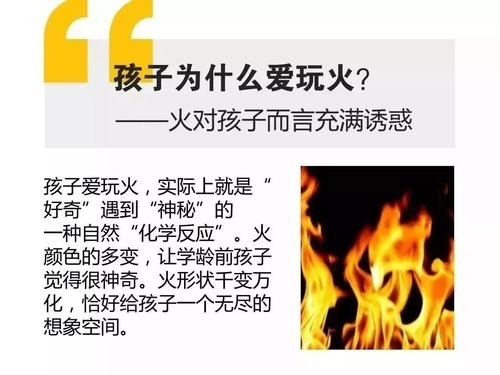fire: (298, 176, 453, 351)
